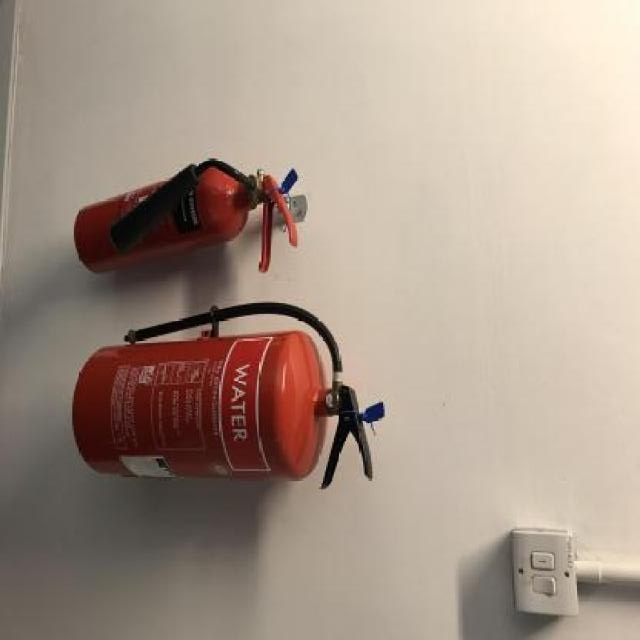fire extinguisher: (71, 303, 384, 491), (73, 159, 298, 275)
